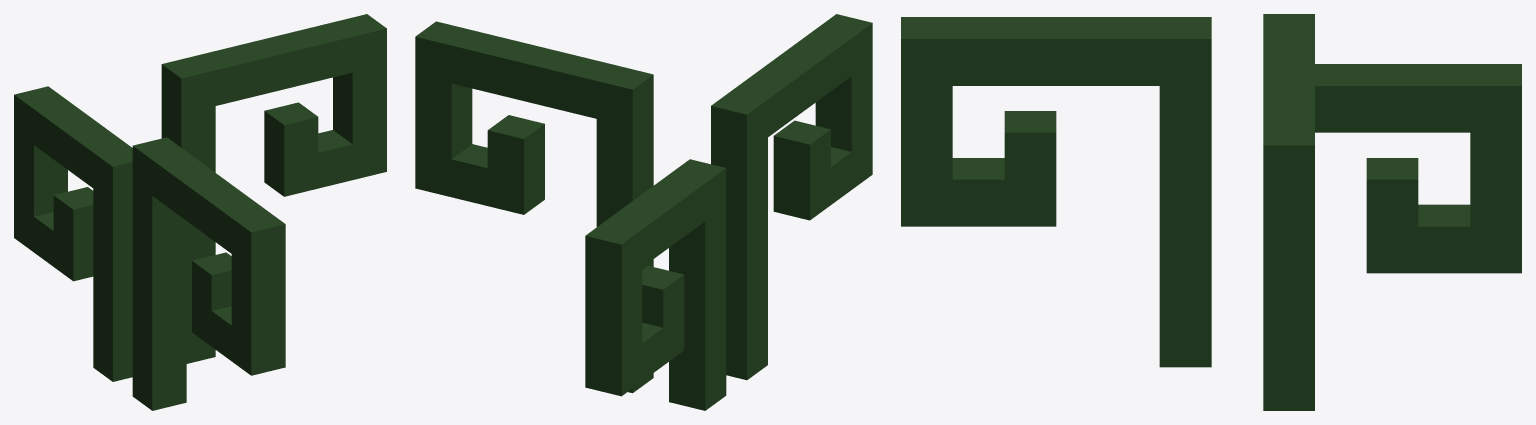
File: GGJ Grass.obj
The picture shows the model from 3 angles, left to right: view 1: azimuth 30°, elevation 25°; view 2: azimuth 150°, elevation 25°; view 3: azimuth 270°, elevation 25°; orthographic projection. The views are drawn at different scales.
Size of the model in its own units: 0.8 by 0.8 by 1.2.
Materials: 1 (1 with a texture image).
